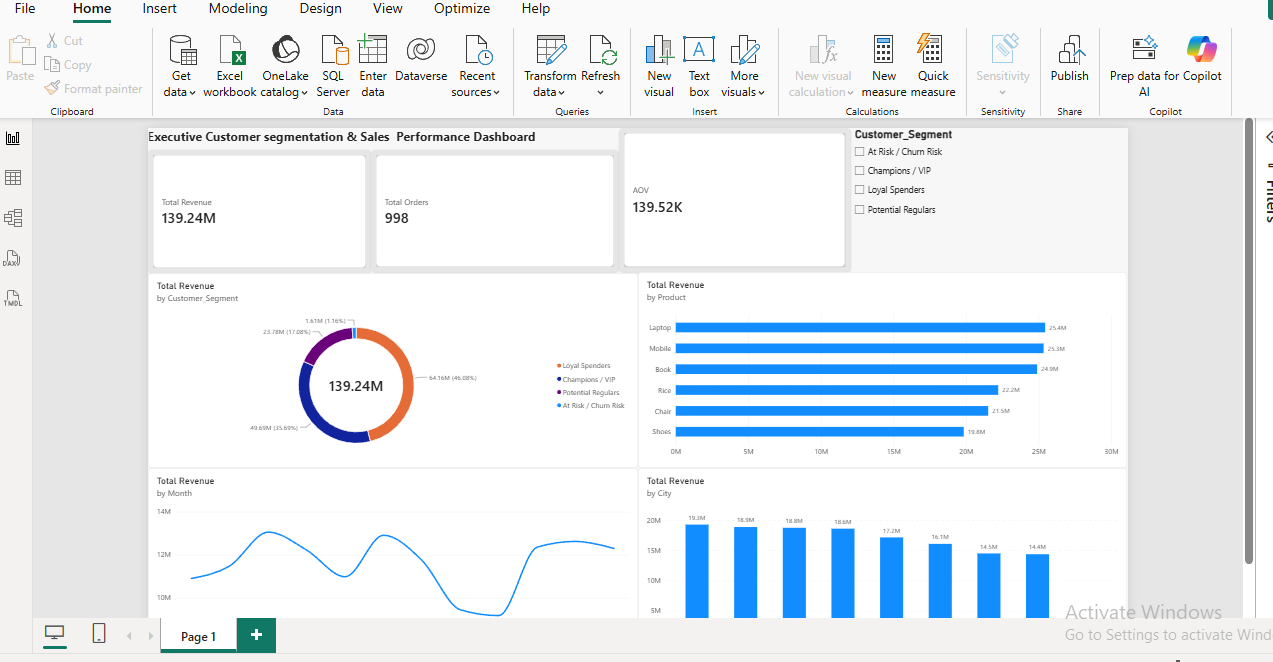

The dashboard page shown, as its layout file describes it:
{"tool":"powerbi","page":{"name":"Page 1","canvas":[1920,1080],"ordinal":0},"visuals":[{"type":"cardVisual","fields":{"Data":["task3_enriched_dataset.Total Revenue"]},"box":[0,43.1,437.3,241.2],"z":0},{"type":"cardVisual","fields":{"Data":["task3_enriched_dataset.Total Orders"]},"box":[437.3,43.1,486.3,239.2],"z":1},{"type":"cardVisual","fields":{"Data":["task3_enriched_dataset.AOV"]},"box":[924.5,0,453.6,283],"z":2},{"type":"slicer","fields":{"Values":["task3_enriched_dataset.Customer_Segment"]},"box":[1378.4,0,541.2,282.4],"z":3},{"type":"donutChart","fields":{"Category":["task3_enriched_dataset.Customer_Segment"],"Y":["task3_enriched_dataset.Total Revenue"]},"box":[0,284.3,960.8,382.4],"z":4},{"type":"clusteredBarChart","fields":{"Category":["task3_enriched_dataset.Product"],"Y":["task3_enriched_dataset.Total Revenue"]},"box":[961.2,283,959,384.5],"z":5},{"type":"lineChart","fields":{"Category":["task3_enriched_dataset.Order_Date.Variation.Date Hierarchy.Month"],"Y":["task3_enriched_dataset.Total Revenue"]},"box":[0,667.3,961,385],"z":6},{"type":"clusteredColumnChart","fields":{"Category":["task3_enriched_dataset.City"],"Y":["task3_enriched_dataset.Total Revenue"]},"box":[961.2,667.4,959,384.5],"z":7},{"type":"textbox","box":[0,0,960.8,43.1],"z":8}]}

Visuals, with their boxes on the page's 1920x1080 design canvas (x1, y1, x2, y2). These are canvas units, not pixel positions in the 1273x662 screenshot, which may show the page scaled, cropped or inside an application window:
cardVisual - task3_enriched_dataset.Total Revenue: BBox(0, 43, 437, 284)
cardVisual - task3_enriched_dataset.Total Orders: BBox(437, 43, 924, 282)
cardVisual - task3_enriched_dataset.AOV: BBox(924, 0, 1378, 283)
slicer - task3_enriched_dataset.Customer_Segment: BBox(1378, 0, 1920, 282)
donutChart - task3_enriched_dataset.Customer_Segment x task3_enriched_dataset.Total Revenue: BBox(0, 284, 961, 667)
clusteredBarChart - task3_enriched_dataset.Product x task3_enriched_dataset.Total Revenue: BBox(961, 283, 1920, 668)
lineChart - task3_enriched_dataset.Order_Date.Variation.Date Hierarchy.Month x task3_enriched_dataset.Total Revenue: BBox(0, 667, 961, 1052)
clusteredColumnChart - task3_enriched_dataset.City x task3_enriched_dataset.Total Revenue: BBox(961, 667, 1920, 1052)
textbox: BBox(0, 0, 961, 43)
